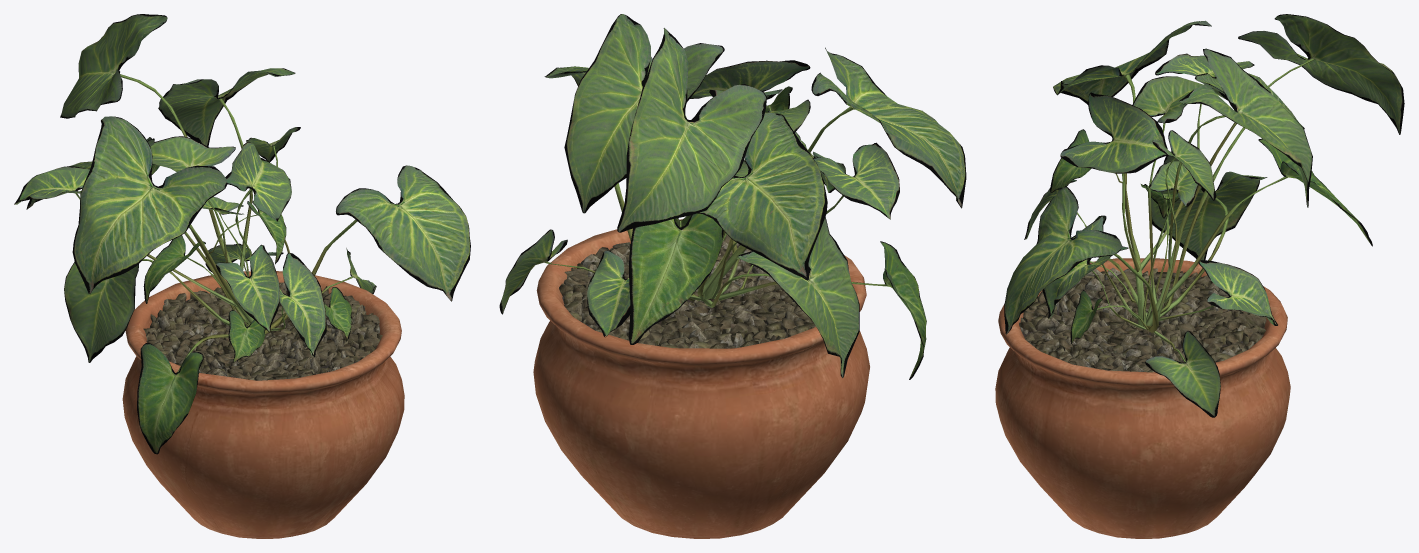
Rendered from potted_plant_02.glb.
3 renders of one model, left to right at view 1: azimuth 30°, elevation 25°; view 2: azimuth 150°, elevation 25°; view 3: azimuth 270°, elevation 25°, orthographic. The views are drawn at different scales.
Visible parts, largest first — view 1: potted_plant_02_leaves, potted_plant_02_pot, potted_plant_02_dirt; view 2: potted_plant_02_leaves, potted_plant_02_pot, potted_plant_02_dirt; view 3: potted_plant_02_leaves, potted_plant_02_pot, potted_plant_02_dirt.
Part boxes in pixels (box(x1,y1,x2,y2)): potted_plant_02_leaves: box(14, 14, 470, 454); potted_plant_02_pot: box(122, 271, 404, 538); potted_plant_02_dirt: box(143, 282, 382, 380); potted_plant_02_leaves: box(499, 14, 966, 379); potted_plant_02_pot: box(533, 219, 869, 538); potted_plant_02_dirt: box(559, 234, 815, 348); potted_plant_02_leaves: box(1004, 14, 1404, 417); potted_plant_02_pot: box(995, 258, 1290, 538); potted_plant_02_dirt: box(1019, 268, 1266, 372).
Size of the model in its own units: 0.7008 by 0.8412 by 0.6575.
Materials: 2 (2 with a texture image).
